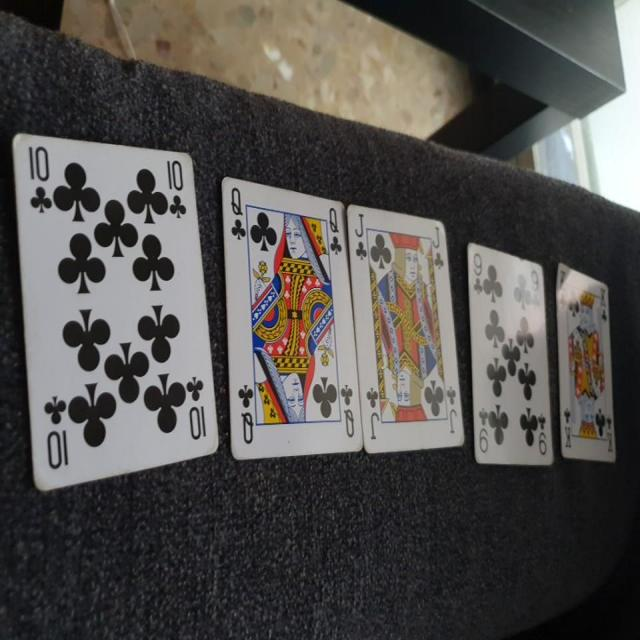10 Trefoils: (11, 129, 219, 492)
9 Trefoils: (464, 241, 553, 468)
J Trefoils: (344, 201, 466, 454)
K Trefoils: (556, 262, 618, 464)
Q Trefoils: (218, 176, 363, 461)
